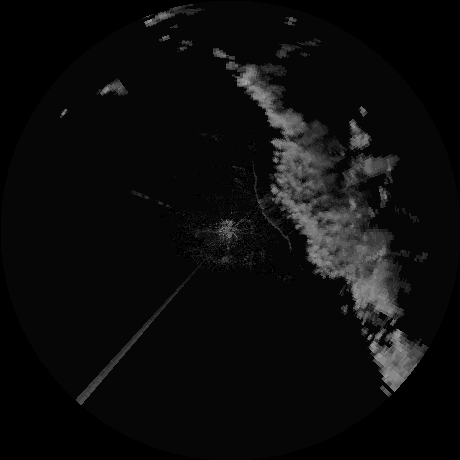frontgust: (254, 174, 269, 221), (273, 226, 291, 252)
